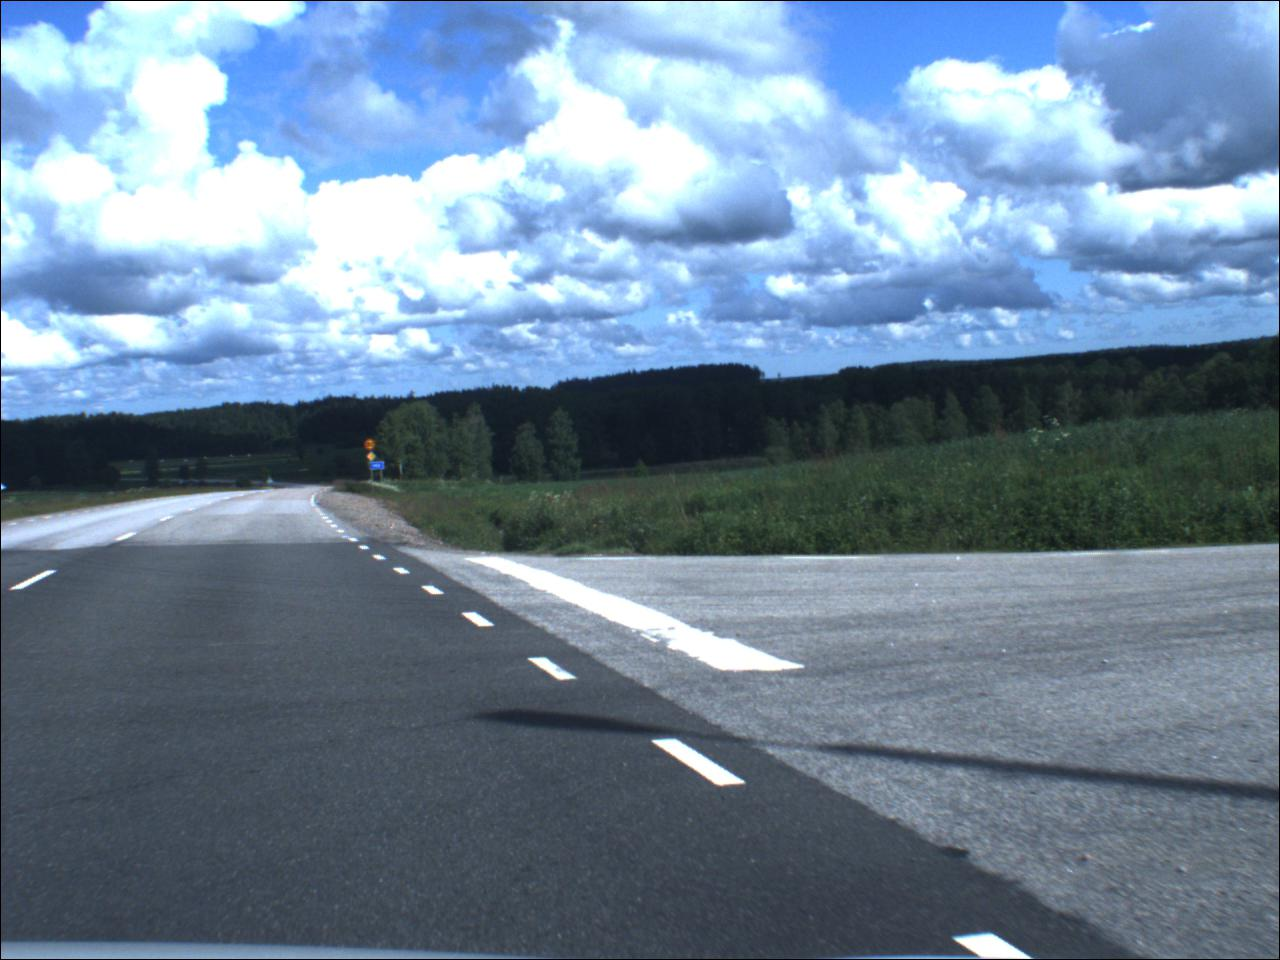80_SIGN: (365, 441, 378, 453)
PRIORITY_ROAD: (368, 453, 379, 463)
